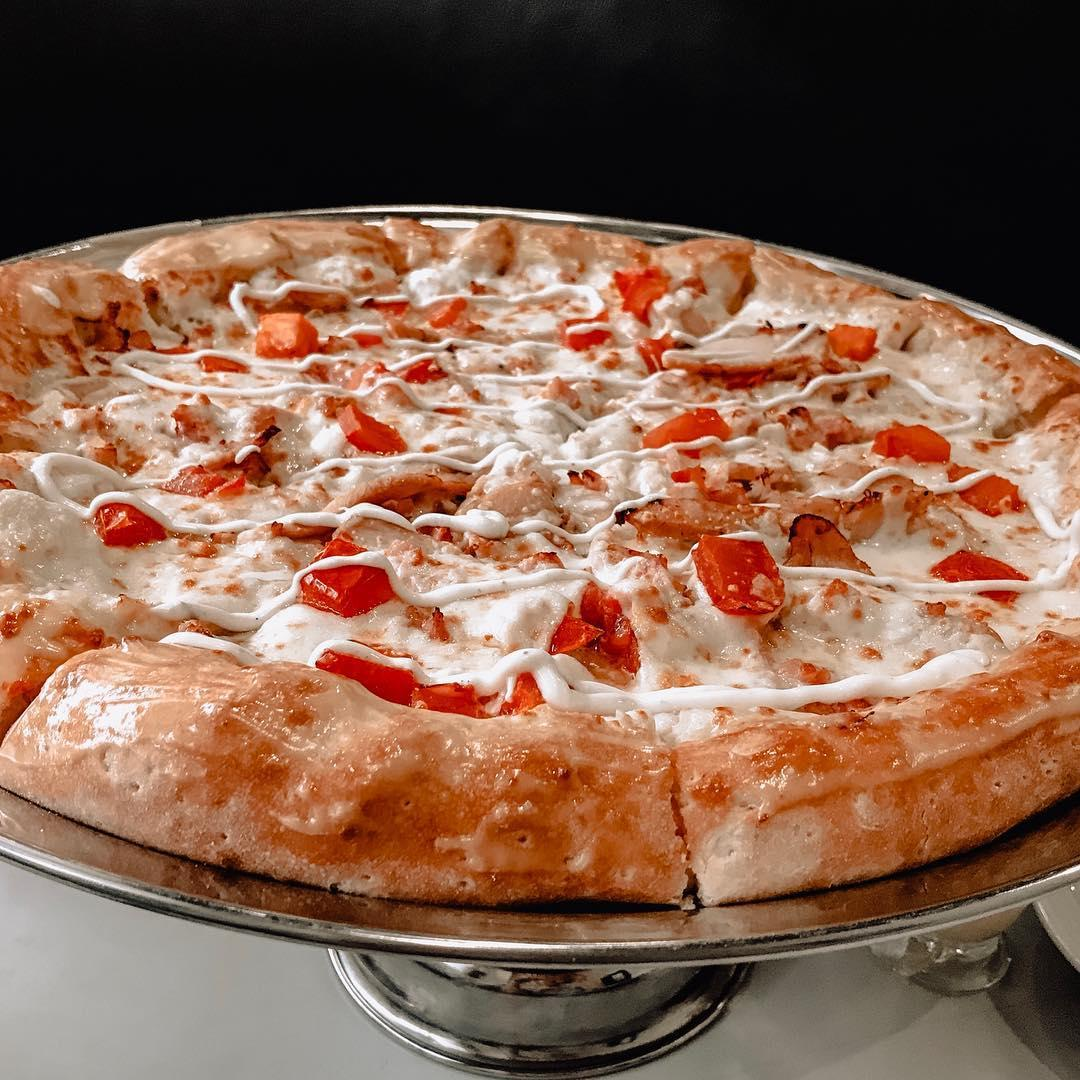Peppers: (544, 573, 643, 683), (279, 531, 408, 614), (916, 547, 1035, 621), (688, 526, 785, 614), (406, 667, 551, 723), (309, 642, 408, 710), (319, 410, 430, 467), (637, 398, 738, 457), (869, 410, 957, 467), (81, 498, 165, 553), (337, 292, 415, 350), (944, 467, 1026, 522), (244, 311, 326, 361), (628, 327, 692, 387), (610, 268, 678, 324), (820, 315, 885, 373), (172, 458, 245, 502), (549, 316, 618, 352), (425, 293, 464, 331)
Pizza: (0, 213, 1080, 912)
